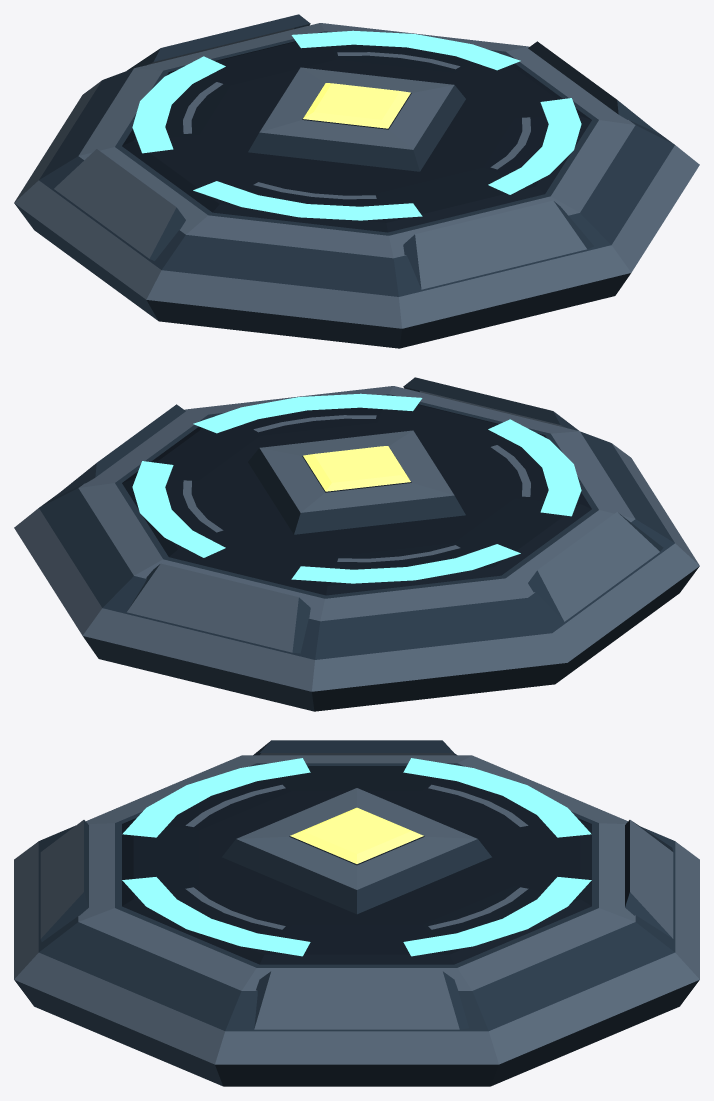
The model's file is GroundTrap.fbx.
The picture shows the model from 3 angles, top to bottom: view 1: azimuth 30°, elevation 25°; view 2: azimuth 150°, elevation 25°; view 3: azimuth 270°, elevation 25°; orthographic projection. The views are drawn at different scales.
Parts seen in each view (by area): view 1: RubezhK7_Mine; view 2: RubezhK7_Mine; view 3: RubezhK7_Mine.
Part boxes in pixels (x1,y1,x2,y2): RubezhK7_Mine: (14,14,699,348); RubezhK7_Mine: (14,377,699,711); RubezhK7_Mine: (14,740,699,1086).
Size of the model in its own units: 81.67 by 18.5 by 81.67.
